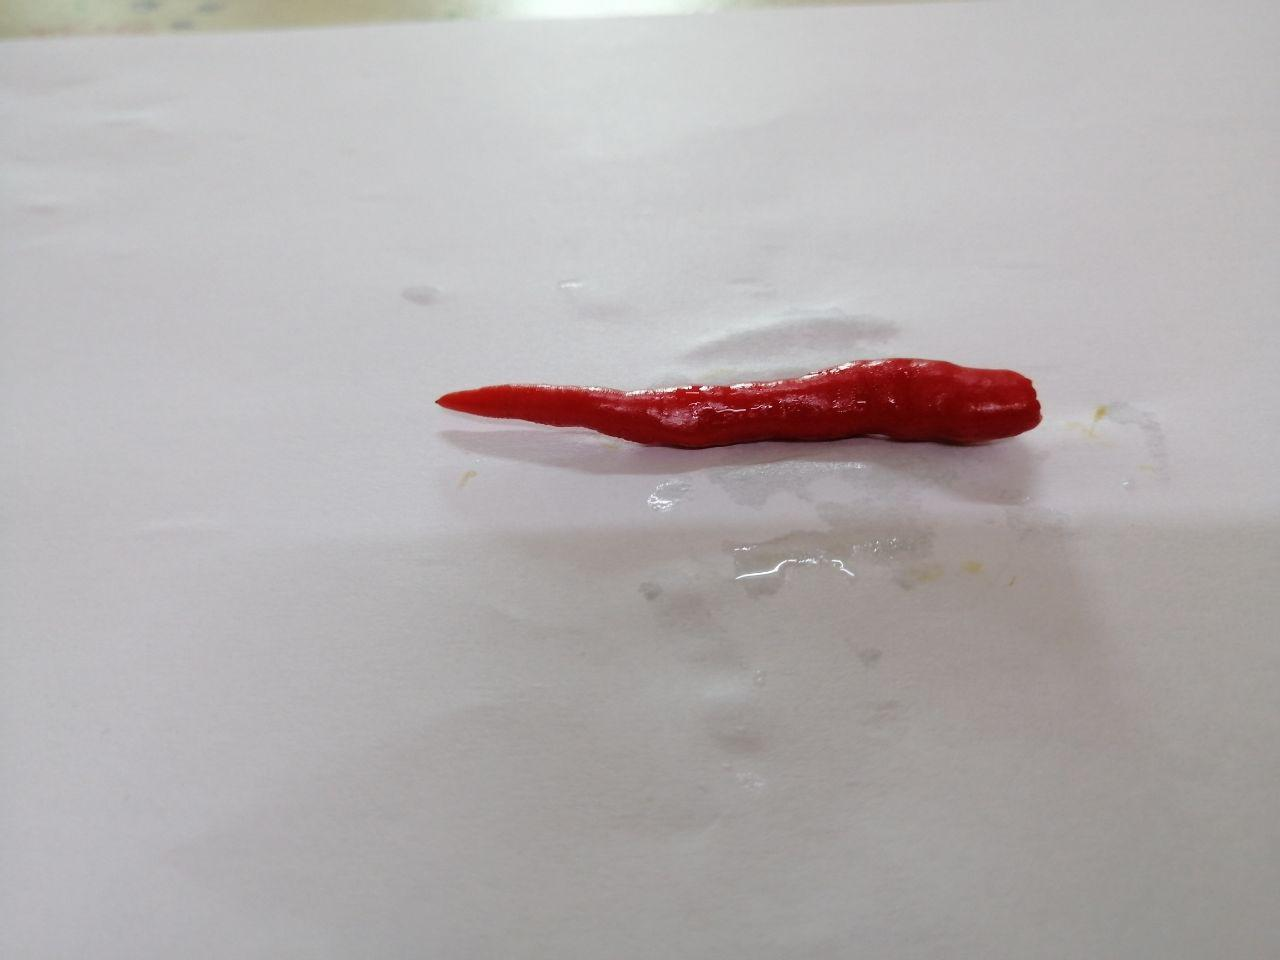lada merah: (428, 344, 1066, 502)
